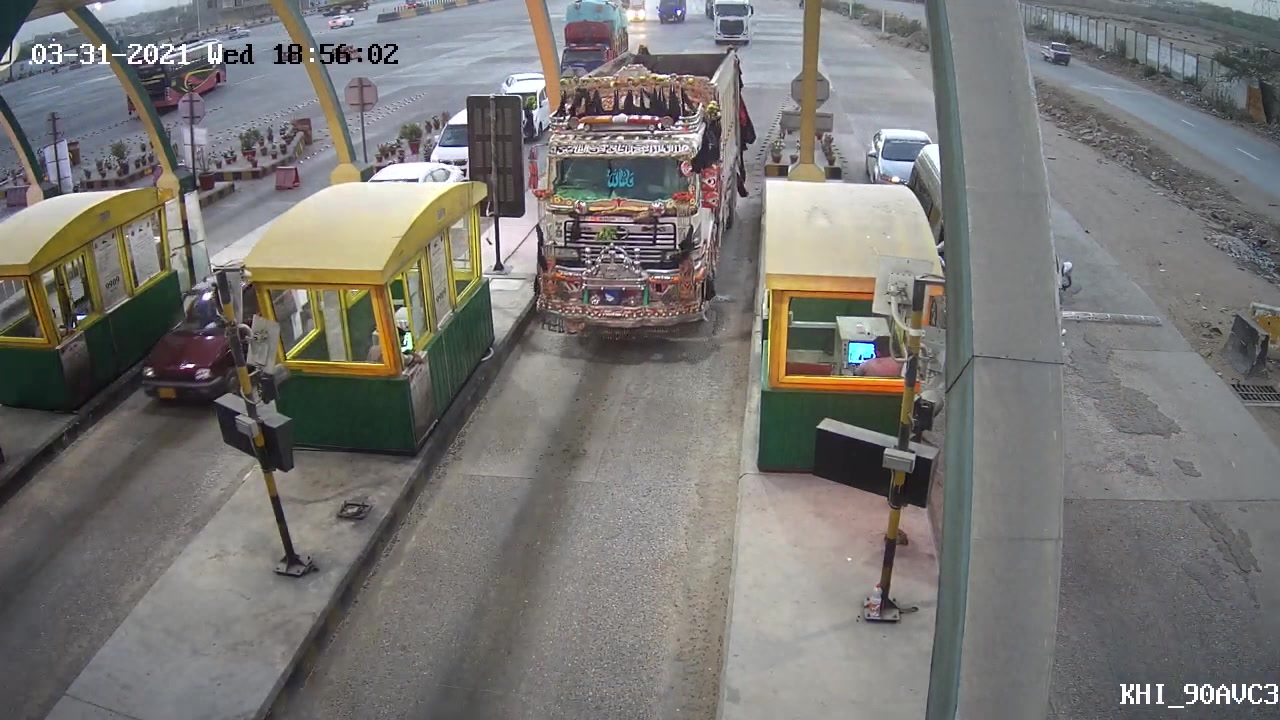F5: (517, 56, 742, 338)
